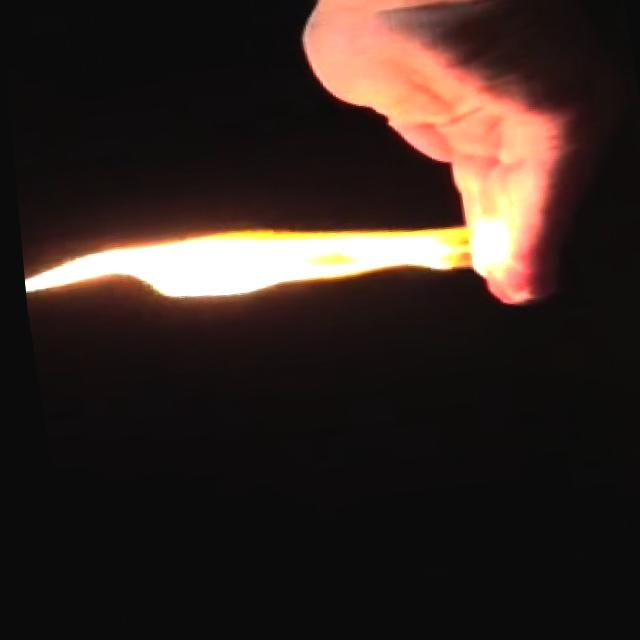helmet: (14, 179, 524, 337)
